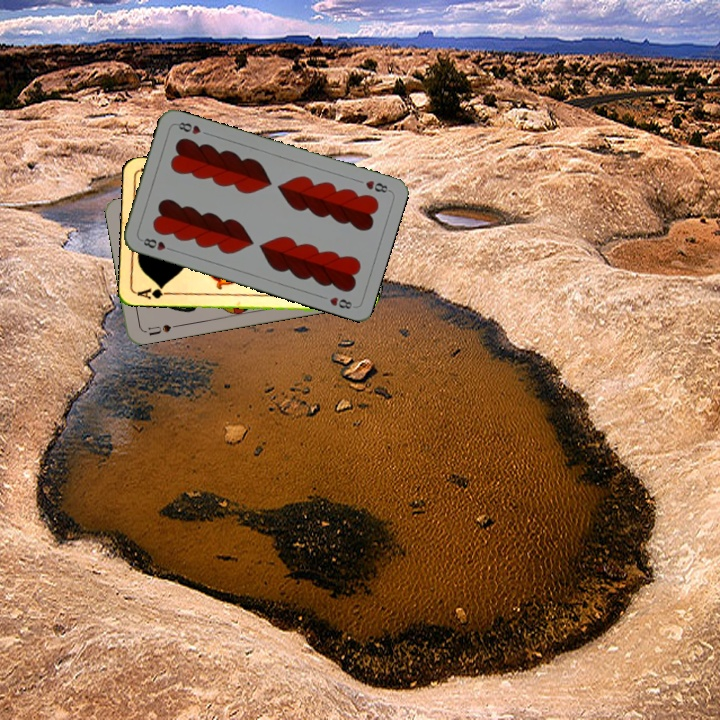GA: (133, 282, 174, 301)
H8: (137, 234, 176, 254), (361, 176, 392, 195)
SU: (144, 320, 181, 338)
